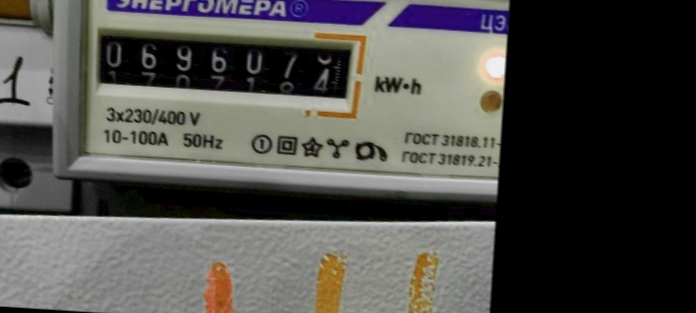0: (102, 39, 125, 70), (243, 47, 264, 77)
4: (309, 66, 330, 96)
6: (207, 45, 229, 77), (138, 41, 158, 72)
7: (278, 48, 298, 80)
9: (173, 44, 194, 74)
screen: (81, 12, 370, 122)
